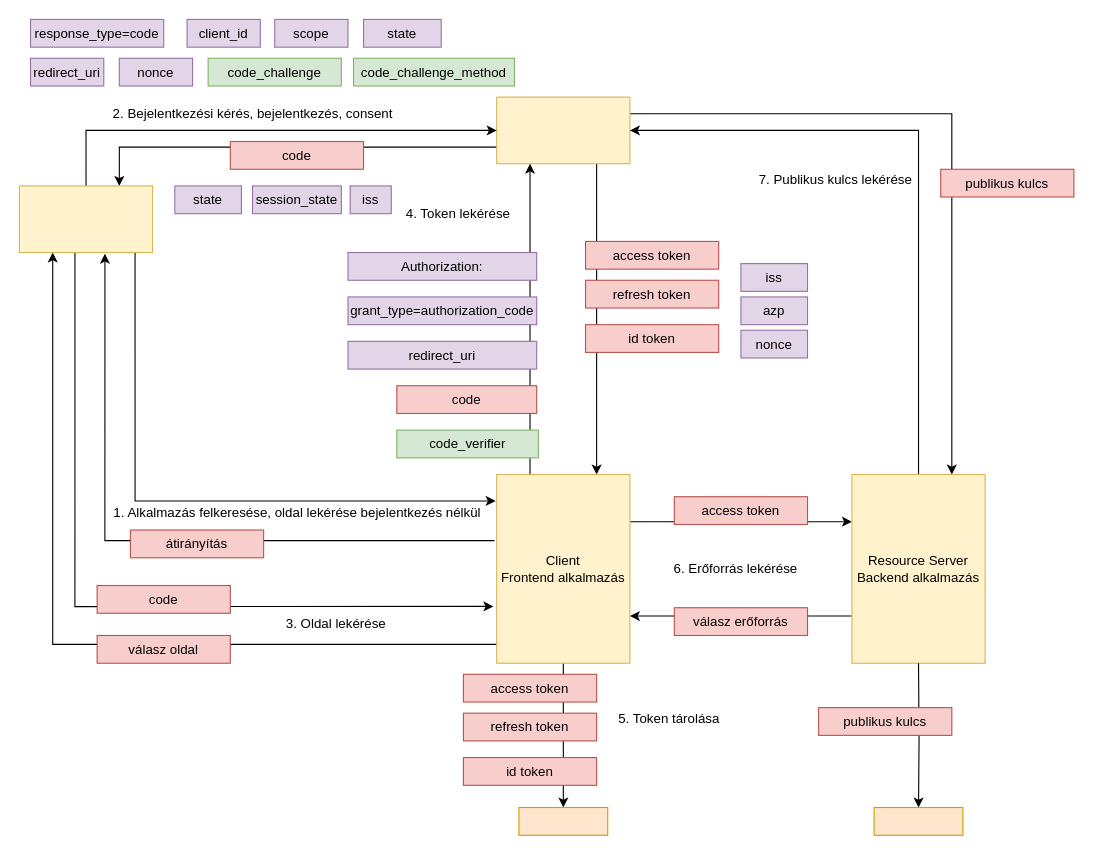
Image size: 1093x855. Some labels were removed from this diagram. Here are the shapes that lost their labels. From the top down, the box of each, then its label:
(496, 96, 630, 164): Authorization Server Keycloak
(18, 185, 153, 253): Felhasználó, böngészővel
(518, 806, 608, 835): Session
(873, 806, 963, 835): Cache
